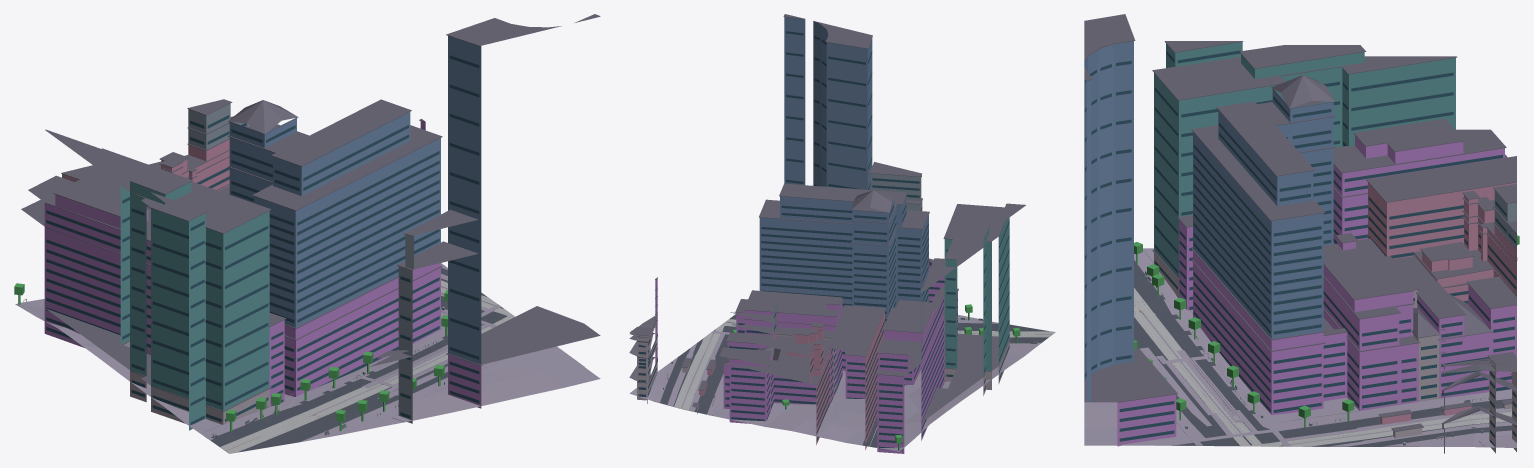
The picture shows the model from 3 angles, left to right: view 1: azimuth 30°, elevation 25°; view 2: azimuth 150°, elevation 25°; view 3: azimuth 270°, elevation 25°; orthographic projection. The views are drawn at different scales.
Parts seen in each view (by area): view 1: compiled-chunk; view 2: compiled-chunk; view 3: compiled-chunk.
Part boxes in pixels (x1,y1,x2,y2): compiled-chunk: [14, 14, 600, 453]; compiled-chunk: [629, 14, 1055, 453]; compiled-chunk: [1084, 14, 1519, 453].
Size of the model in its own units: 121 by 116 by 121.
